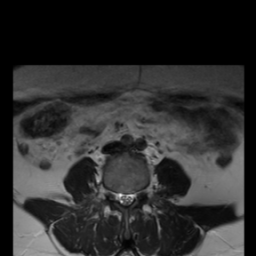CCS_severe_stenosis: (122, 186, 129, 212)
LFS_stenosis: (136, 182, 143, 204)
LLS_stenosis: (129, 186, 136, 209)
RFS_normal: (107, 184, 115, 203)
RLS_normal: (115, 186, 122, 209)
